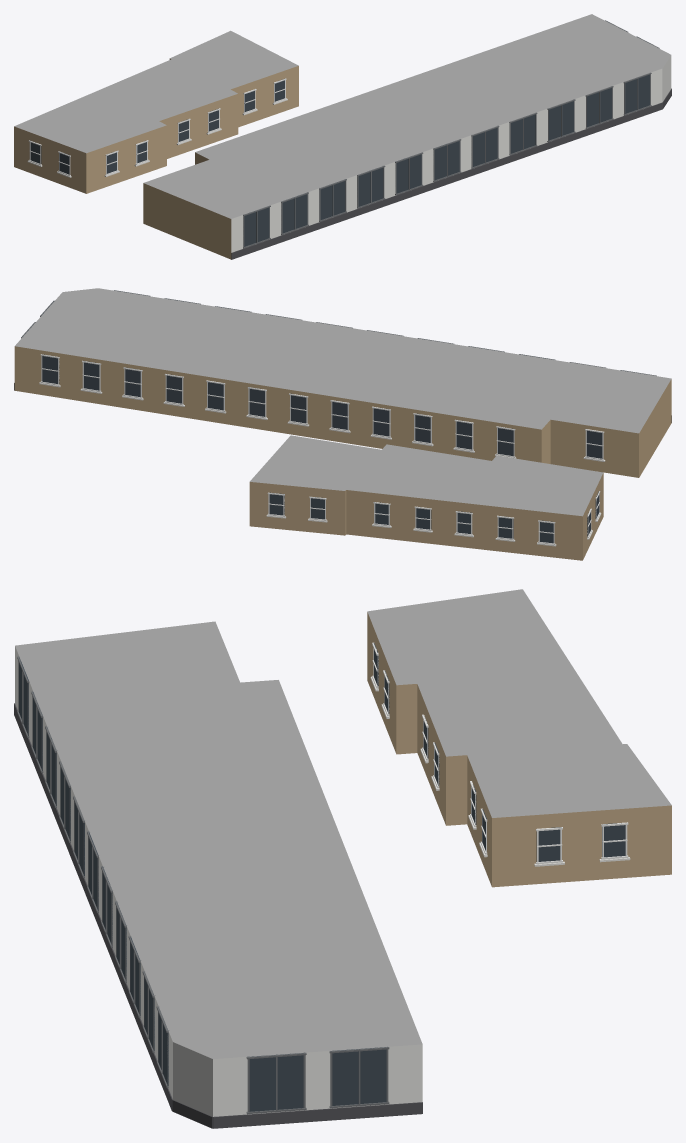
Rendered from level-0.glb.
The picture shows the model from 3 angles, top to bottom: view 1: azimuth 30°, elevation 25°; view 2: azimuth 150°, elevation 25°; view 3: azimuth 270°, elevation 25°; orthographic projection. The views are drawn at different scales.
Visible parts, largest first — view 1: building, facade; view 2: building, facade; view 3: building, facade.
Part boxes in pixels (x1,y1,x2,y2): building: [14, 14, 671, 259]; facade: [27, 20, 671, 259]; building: [14, 288, 671, 560]; facade: [14, 290, 671, 546]; building: [15, 589, 671, 1116]; facade: [14, 642, 630, 1128].
Bounding box in the file's own units: 43.74 × 3 × 25.85.
